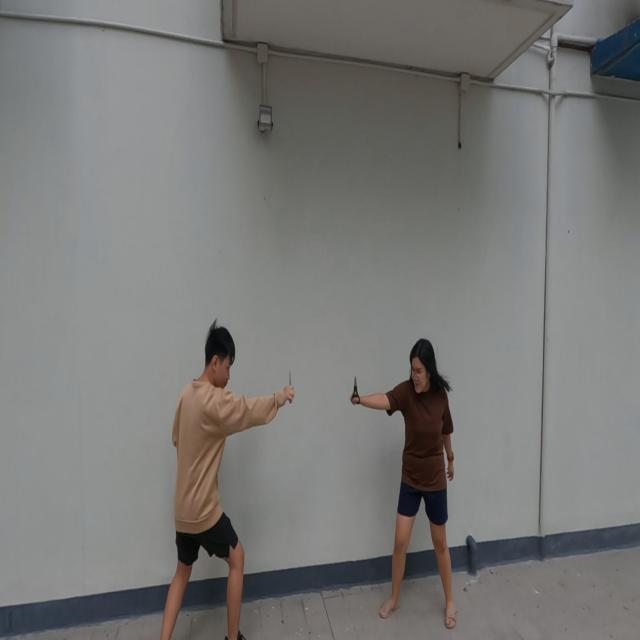scissor: (352, 375, 361, 406)
